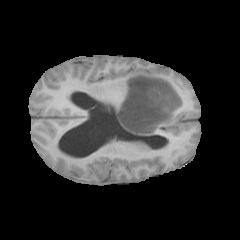glioma: (115, 70, 182, 135)
